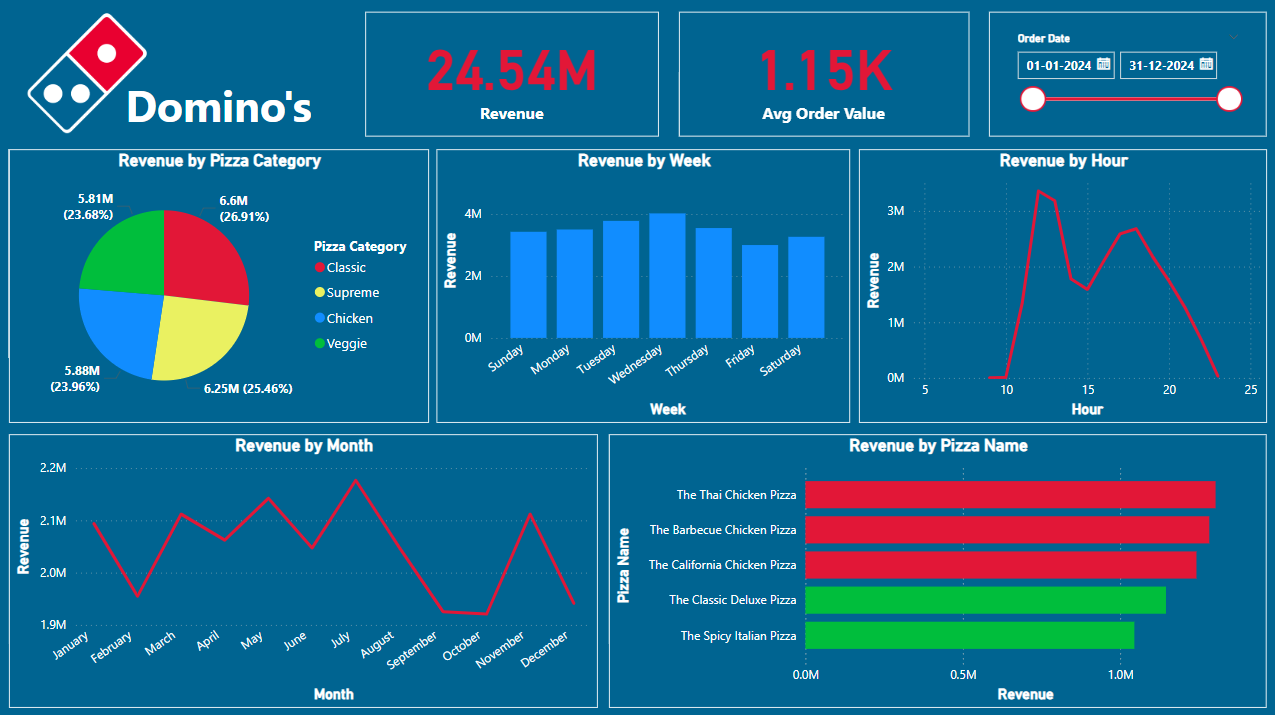

The dashboard page shown, as its layout file describes it:
{"tool":"powerbi","page":{"name":"Page 1","canvas":[1280,720],"ordinal":0},"visuals":[{"type":"image","box":[24.1,0,129.1,150.8],"z":0},{"type":"textbox","box":[121.9,72.4,208.7,68.8],"z":1000},{"type":"lineChart","title":"Revenue by Month","fields":{"Y":["Dataset.Revenue"],"Category":["Dataset.Month Name"]},"box":[9.7,436.7,588.7,273.9],"z":2000},{"type":"columnChart","title":"Revenue by Week","fields":{"Category":["Dataset.Week"],"Y":["Dataset.Revenue"]},"box":[437.9,150.8,413.8,273.9],"z":3000},{"type":"pieChart","title":"Revenue by Pizza Category","fields":{"Category":["Dataset.pizza_category"],"Y":["Dataset.Revenue"]},"box":[9.7,150.8,419.8,273.9],"z":4000},{"type":"card","fields":{"Values":["Dataset.Revenue"]},"box":[366.2,13.8,293.8,125],"z":5000},{"type":"slicer","fields":{"Values":["Dataset.order_date"]},"box":[990,13.8,277.5,125],"z":6000},{"type":"card","fields":{"Values":["Dataset.AOV"]},"box":[680,13.8,290,125],"z":7000},{"type":"clusteredBarChart","title":"Revenue by Pizza Name","fields":{"Y":["Dataset.Revenue"],"Category":["Dataset.pizza_name"]},"box":[610.5,436.7,657.5,273.9],"z":8000},{"type":"lineChart","title":"Revenue by Hour","fields":{"Y":["Dataset.Revenue"],"Category":["Dataset.Hour"]},"box":[860.2,150.8,407.8,273.9],"z":9001}]}

Visuals, with their boxes in screenshot pixels (x1, y1, x2, y2), scaled from the page's 1280x720 canvas onto the 1275x715 screenshot:
image: (24,0,153,150)
textbox: (121,72,329,140)
"Revenue by Month" lineChart: (10,434,596,706)
"Revenue by Week" columnChart: (436,150,848,422)
"Revenue by Pizza Category" pieChart: (10,150,428,422)
card - Dataset.Revenue: (365,14,657,138)
slicer - Dataset.order_date: (986,14,1263,138)
card - Dataset.AOV: (677,14,966,138)
"Revenue by Pizza Name" clusteredBarChart: (608,434,1263,706)
"Revenue by Hour" lineChart: (857,150,1263,422)
